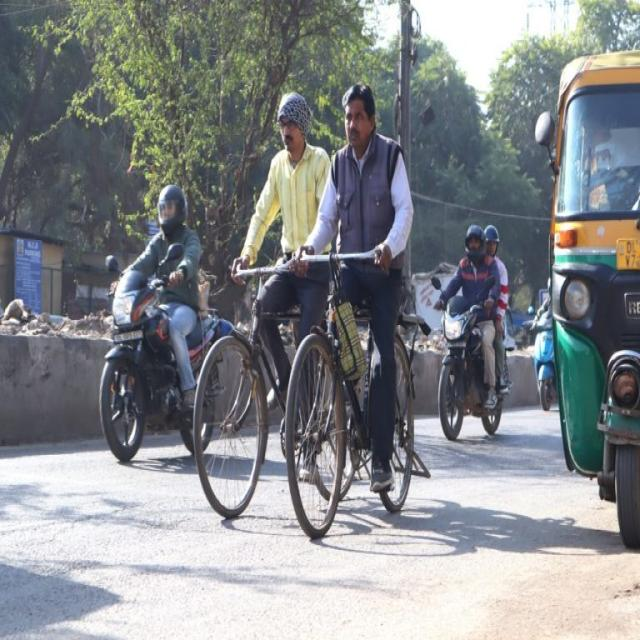autorickshaw: (535, 52, 640, 548)
bicycle: (285, 84, 429, 538), (194, 92, 330, 518)
motorcycle: (100, 186, 231, 461), (431, 225, 509, 440)
